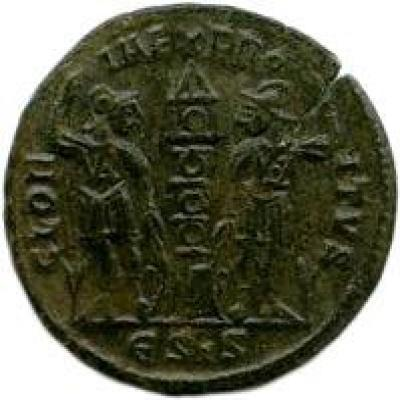numismatics: (5, 7, 395, 393)
